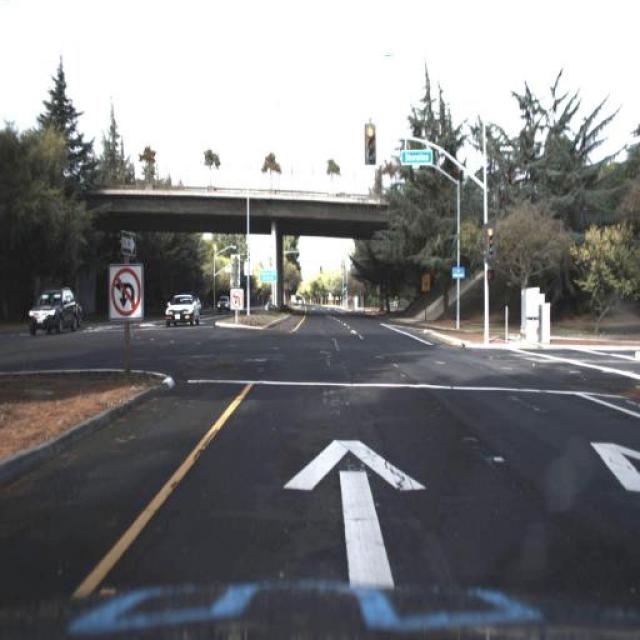semaforo: (364, 124, 376, 166)
